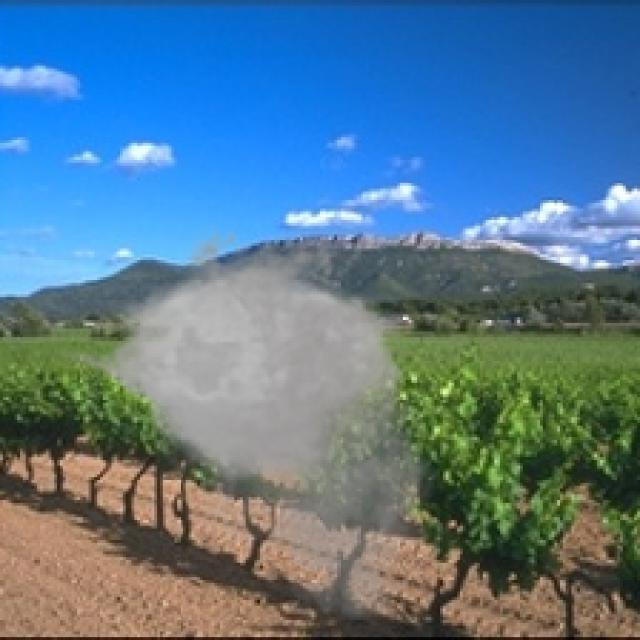smoke: (54, 217, 446, 626)
